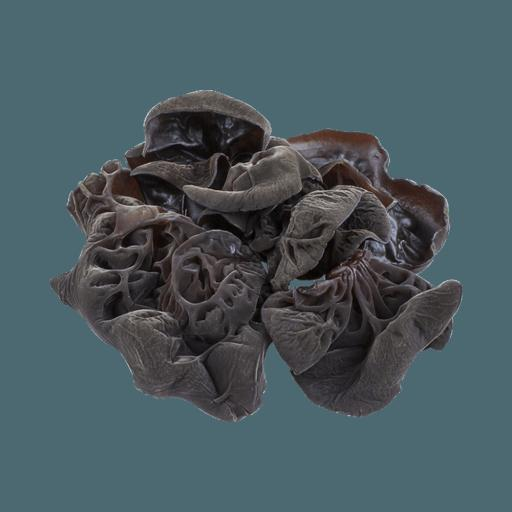mushroom: (31, 84, 476, 430)
